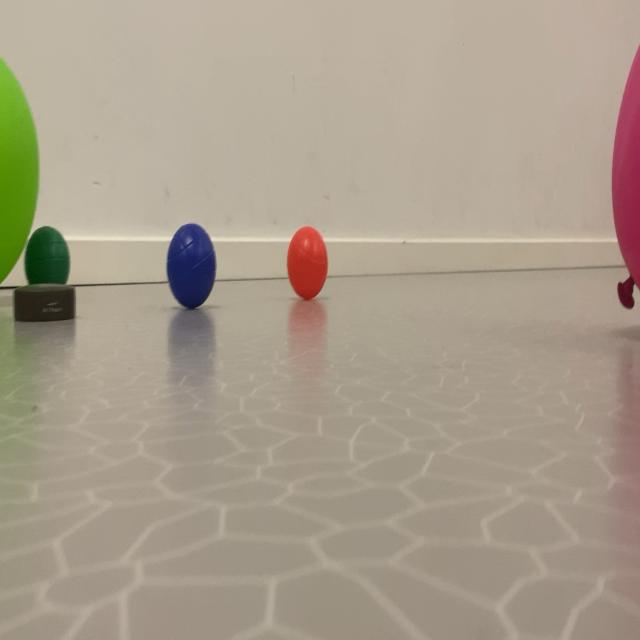blue ball: (18, 187, 334, 336)
